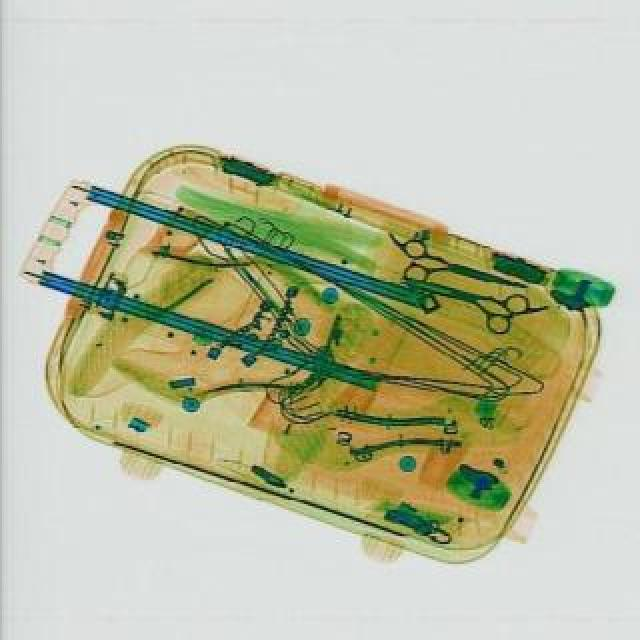pliers: (388, 264, 530, 344), (390, 240, 532, 308)
